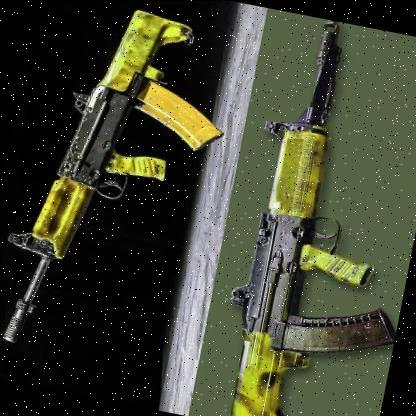rifle: (0, 0, 247, 374), (193, 9, 416, 416)
